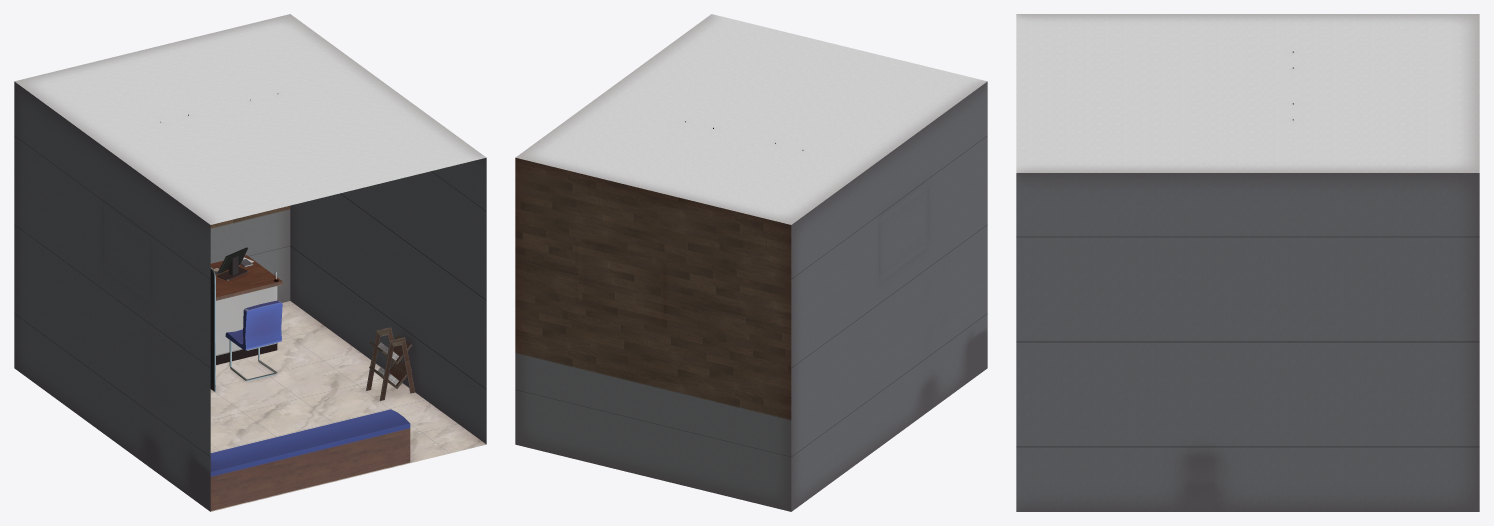
The model's file is bank_office.fbx.
3 renders of one model, left to right at view 1: azimuth 30°, elevation 25°; view 2: azimuth 150°, elevation 25°; view 3: azimuth 270°, elevation 25°, orthographic. The views are drawn at different scales.
Parts seen in each view (by area): view 1: bank_office_wall_bank_office, bank_office_bank_office_furniture_01_bank_office_furniture, bank_office_bank_office_furniture_bank_office_furniture_10, bank_office_bank_office_furniture_bank_office_furniture_21, bank_office_bank_office_furniture_bank_office_furniture_16, Plane004; view 2: bank_office_wall_bank_office; view 3: bank_office_wall_bank_office.
Boxes of the visible parts, <box> form: bank_office_wall_bank_office: <box>14,14,486,511</box>; bank_office_bank_office_furniture_01_bank_office_furniture: <box>210,409,410,510</box>; bank_office_bank_office_furniture_bank_office_furniture_10: <box>210,255,282,364</box>; bank_office_bank_office_furniture_bank_office_furniture_21: <box>225,300,282,350</box>; bank_office_bank_office_furniture_bank_office_furniture_16: <box>210,267,215,391</box>; Plane004: <box>379,337,415,400</box>; bank_office_wall_bank_office: <box>515,14,987,511</box>; bank_office_wall_bank_office: <box>1016,14,1479,511</box>.
Bounding box in the file's own units: 417 × 415 × 513.
